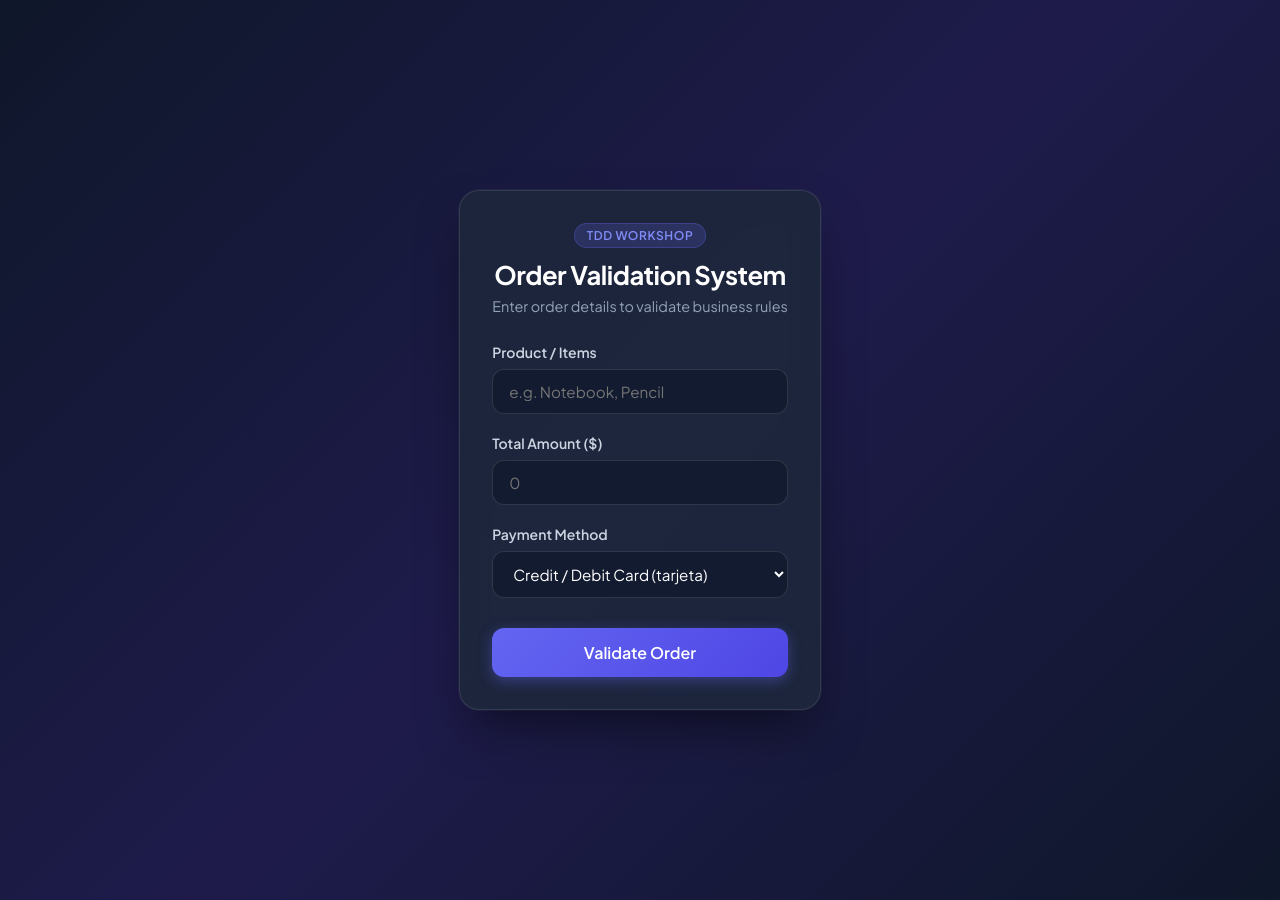
it: OrderForm - Frontend TDD Tests › Rule 3: shows error when cash on delivery exceeds 500,000
This screenshot has width=1280, height=900.
Type "cuaderno" into the field labelled "Product / Items". click: (640,392)
box: [492,369,788,414]
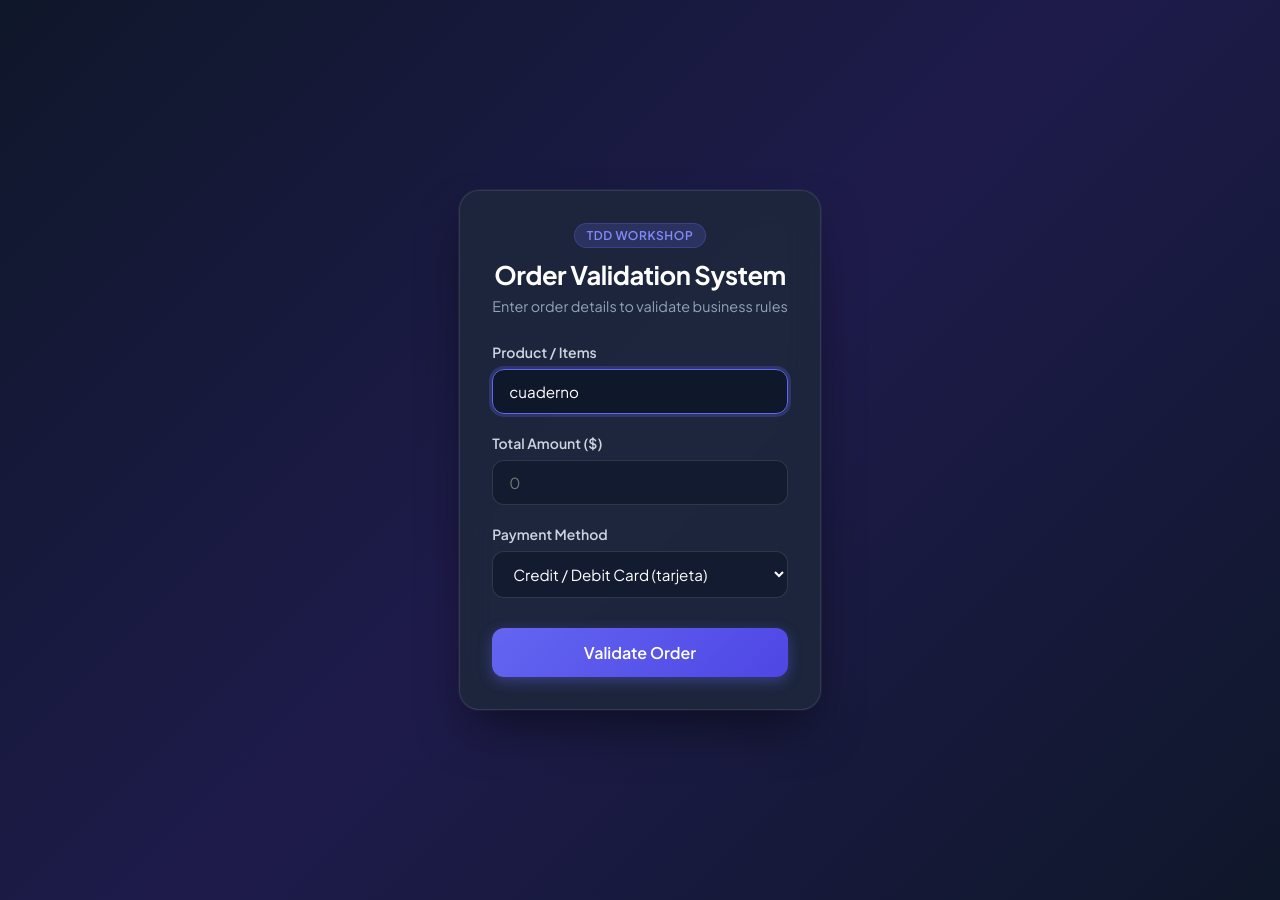
Type "600000" into the number field labelled "Total Amount ($)". click: (640,482)
box: [492,460,788,505]
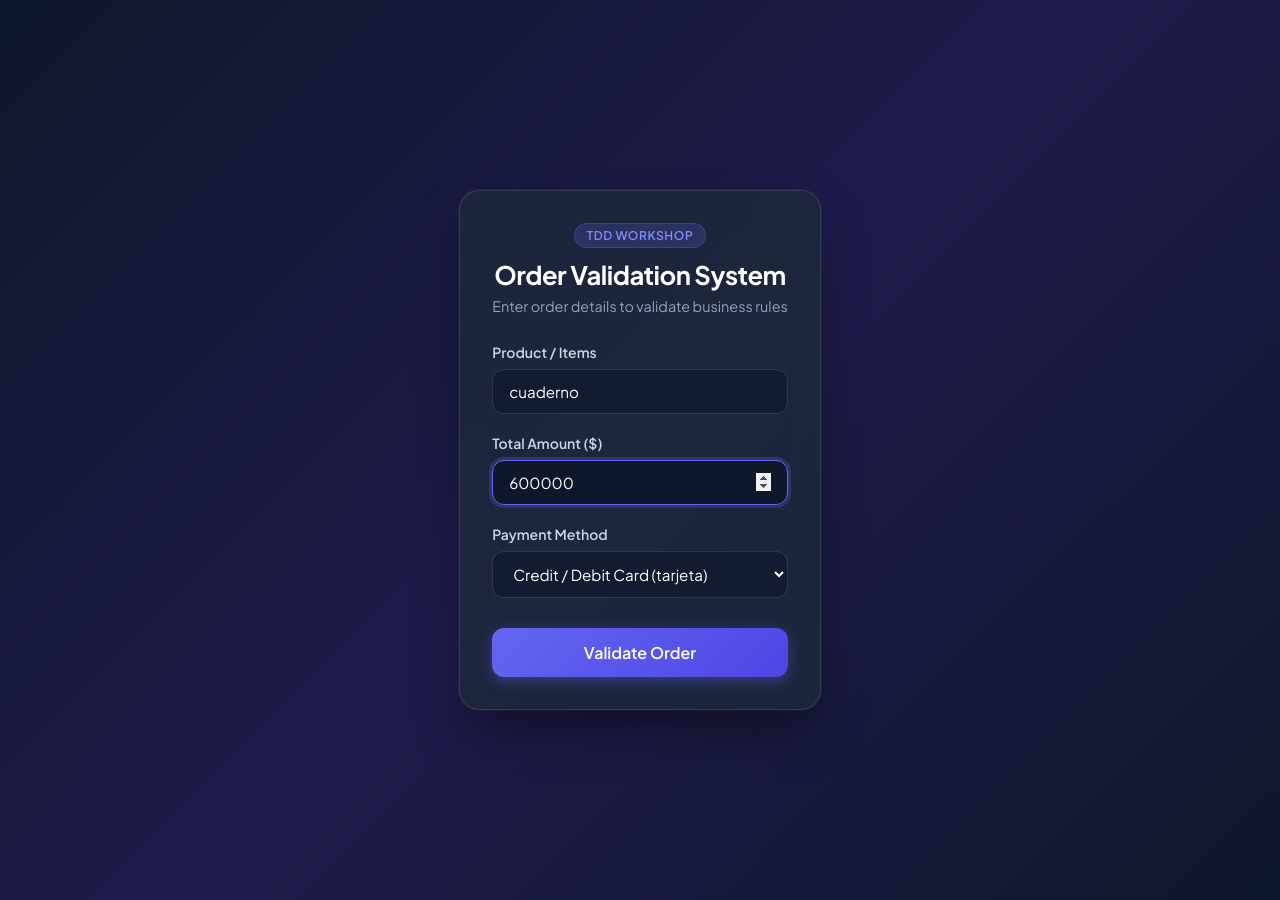
Select "Cash on Delivery (contraentrega)" in the dropdown labelled "Payment Method". click: (640,574)
box: [492,551,788,598]
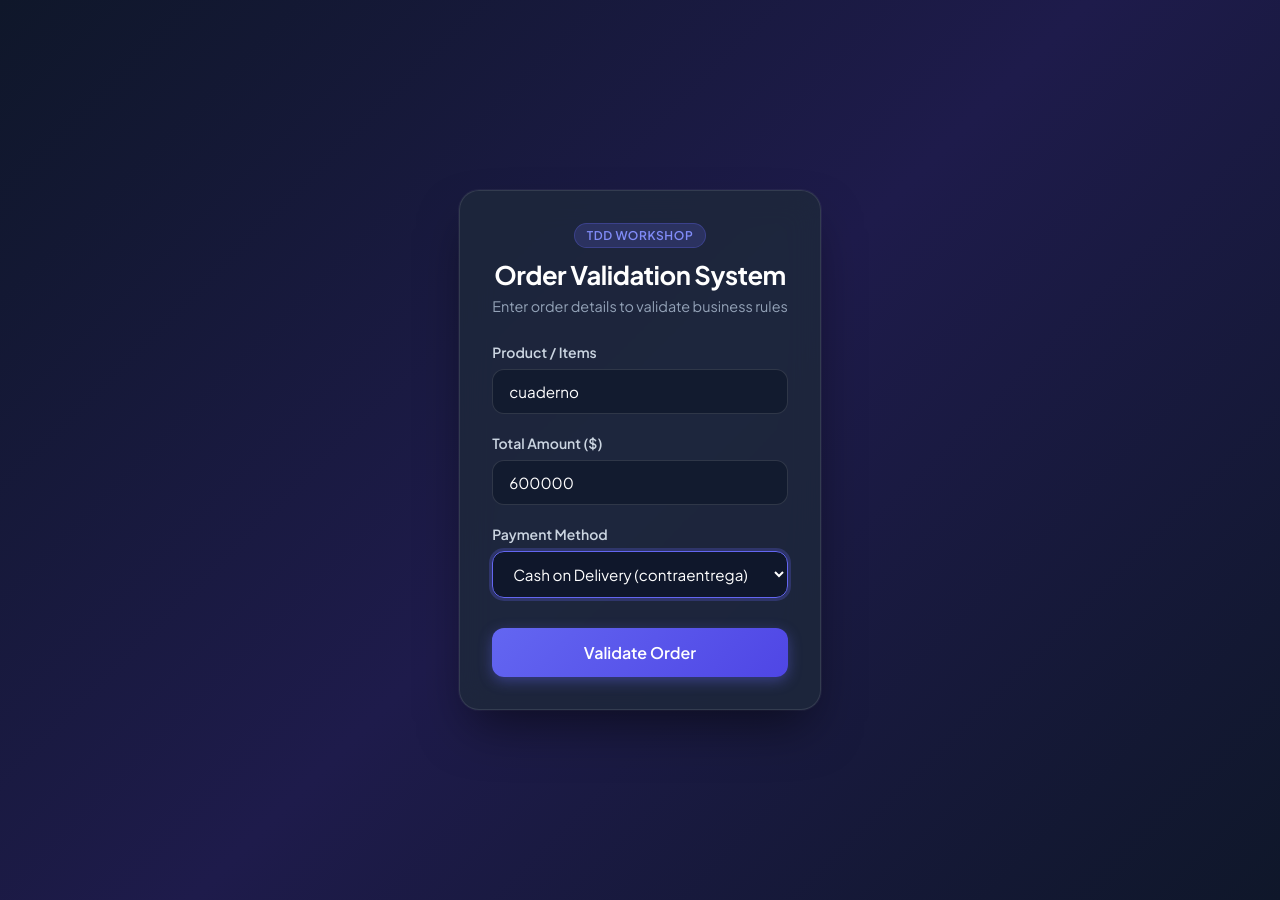
Click the button "Validate Order". click: (640,652)
box: [492,628,788,677]
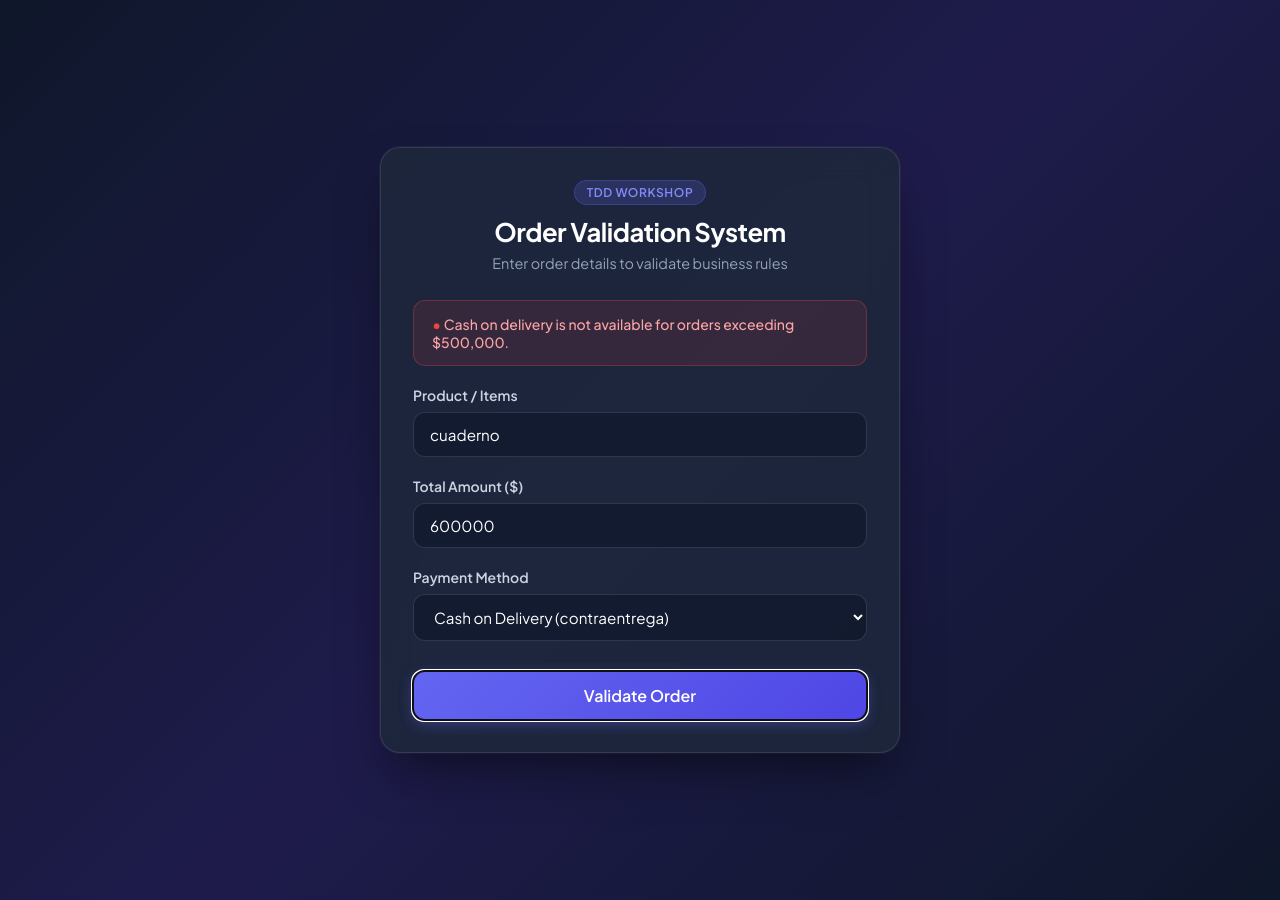
expect the list item "Cash on delivery is not available for orders exceeding $500,000." is shown: met, box [432,315,848,351]
